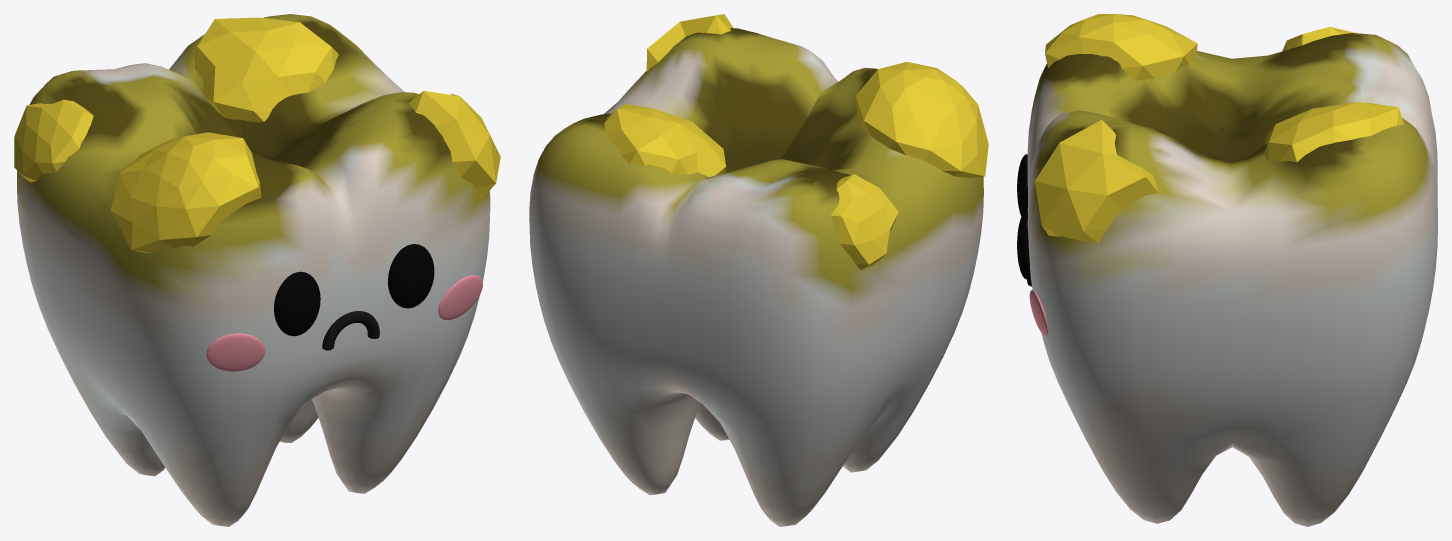
Rendered from gigidemineralisasi.glb.
The picture shows the model from 3 angles, left to right: view 1: azimuth 30°, elevation 25°; view 2: azimuth 150°, elevation 25°; view 3: azimuth 270°, elevation 25°; orthographic projection. The views are drawn at different scales.
Parts seen in each view (by area): view 1: Cube, Icosphere, Icosphere.001, Plane, Icosphere.002, Icosphere.003, Plane.001, Torus; view 2: Cube, Icosphere, Icosphere.001, Icosphere.003, Icosphere.002; view 3: Cube, Icosphere.002, Icosphere, Icosphere.001, Plane, Icosphere.003, Plane.001.
Part boxes in pixels (box(x1,y1,x2,y2)): Cube: box(17, 14, 490, 526); Icosphere: box(110, 132, 261, 252); Icosphere.001: box(194, 17, 338, 122); Plane: box(274, 244, 434, 336); Icosphere.002: box(408, 91, 500, 200); Icosphere.003: box(14, 99, 93, 182); Plane.001: box(206, 275, 482, 371); Torus: box(322, 311, 379, 350); Cube: box(529, 28, 983, 526); Icosphere: box(856, 62, 988, 178); Icosphere.001: box(604, 104, 726, 176); Icosphere.003: box(830, 174, 898, 269); Icosphere.002: box(646, 14, 733, 71); Cube: box(1027, 33, 1437, 526); Icosphere.002: box(1034, 120, 1158, 243); Icosphere: box(1045, 14, 1197, 80); Icosphere.001: box(1263, 102, 1403, 162); Plane: box(1017, 154, 1030, 279); Icosphere.003: box(1282, 27, 1356, 51); Plane.001: box(1029, 290, 1048, 336).
Size of the model in its own units: 2.58 by 2.81 by 2.52.
